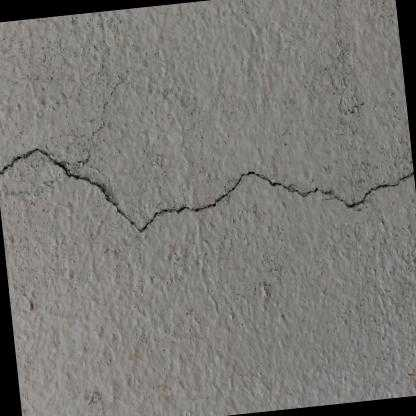crack: (0, 147, 413, 230)
